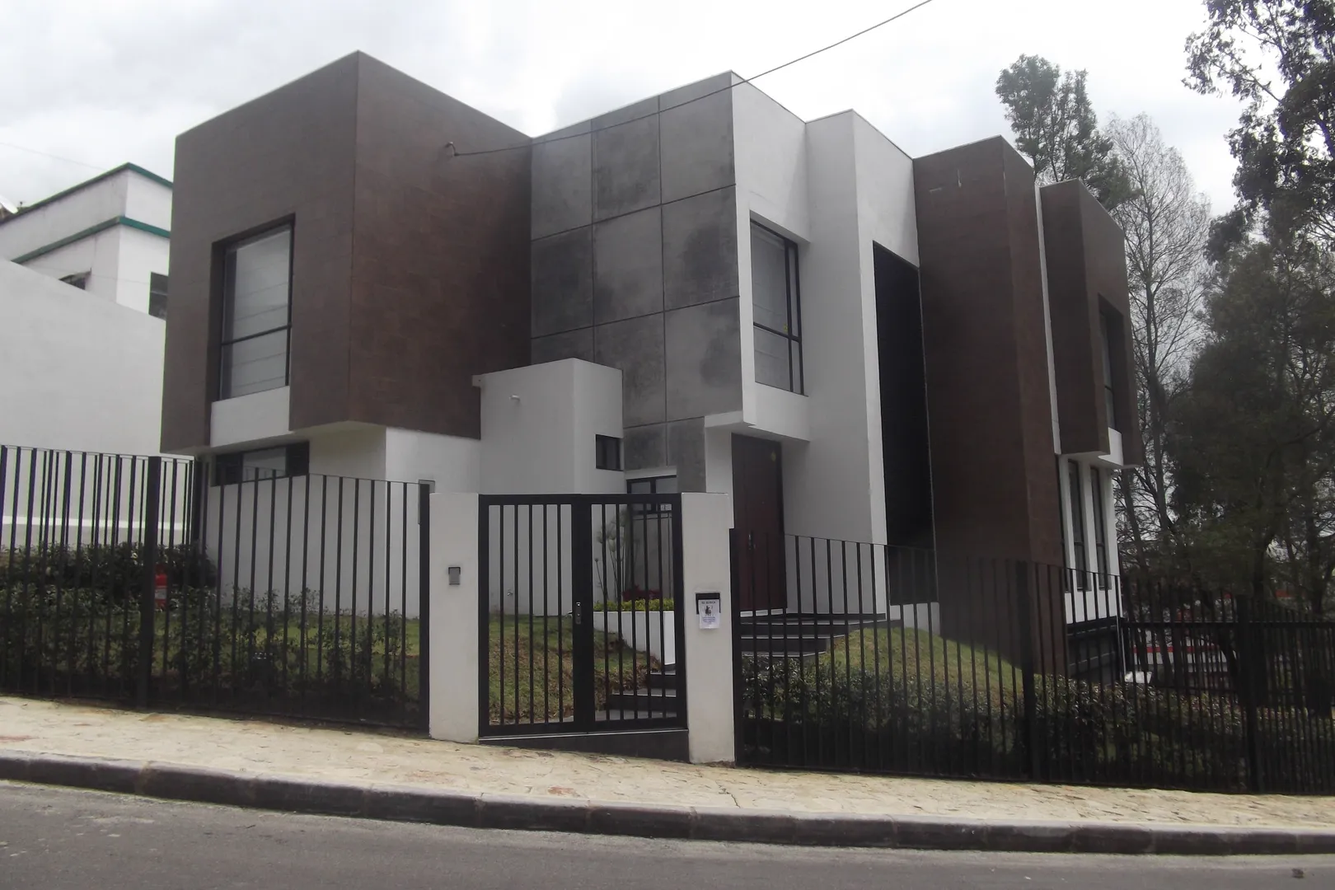House: (147, 68, 1156, 746)
